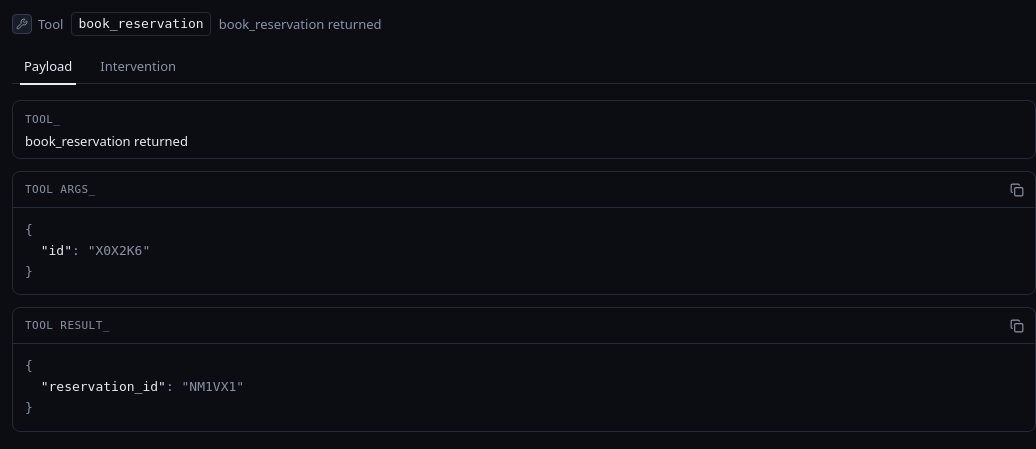
Test case: StepInspector error handling › says the intervention diff failed rather than "never intervened on"
Click the tab "Intervention". click: point(138, 66)
box: [88, 48, 188, 84]
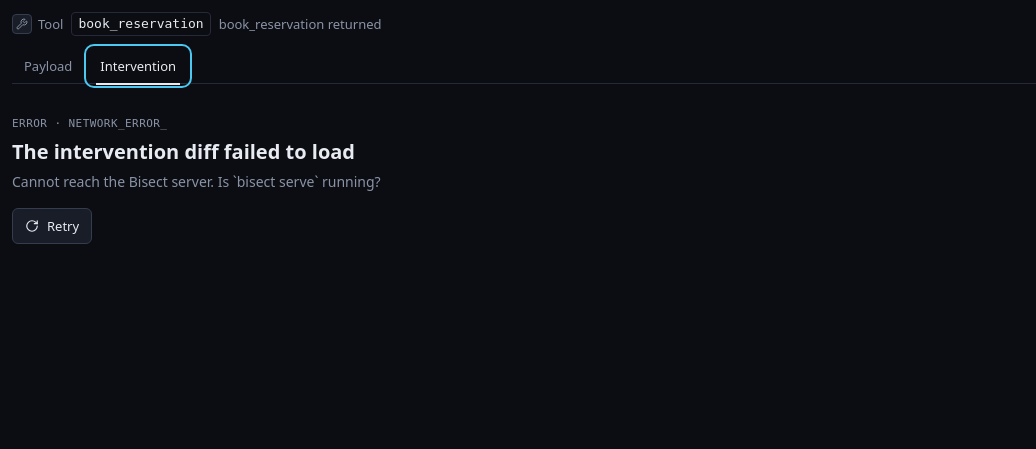
Now the message shows "Cannot reach the Bisect server", box [12, 172, 381, 191]
